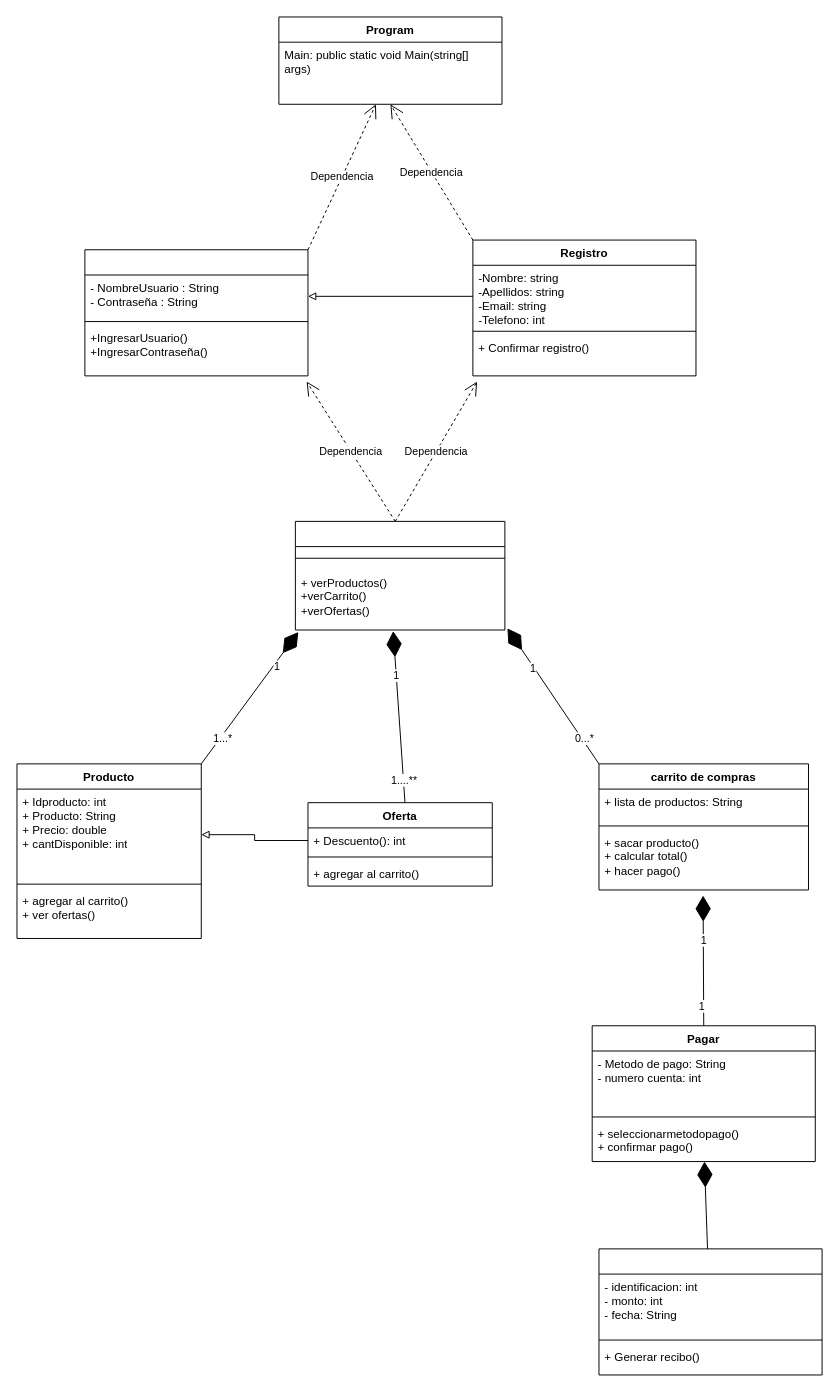
The diagram is 839 pixels wide and 1395 high, and some of its shapes have lost their labels. The shapes that lost their labels are listed below. From the top down, each one's box as (x1, y1, x2, y2) in pixels, then its label:
(84, 249, 308, 376): inicio sesion
(294, 520, 505, 630): Cliente
(598, 1248, 822, 1375): Factura
